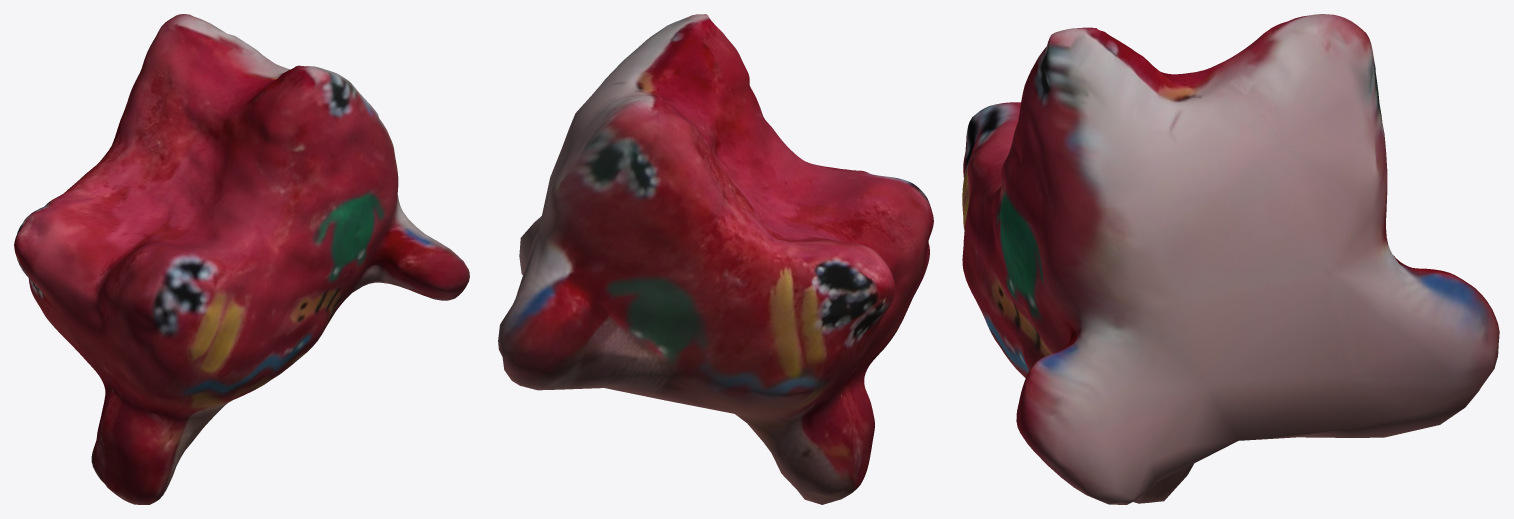
3 views of the same model, side by side, from view 1: azimuth 30°, elevation 25°; view 2: azimuth 150°, elevation 25°; view 3: azimuth 270°, elevation 25° (orthographic). The views are drawn at different scales.
Size of the model in its own units: 0.3166 by 0.3158 by 0.2702.
1 material, 1 textured.
